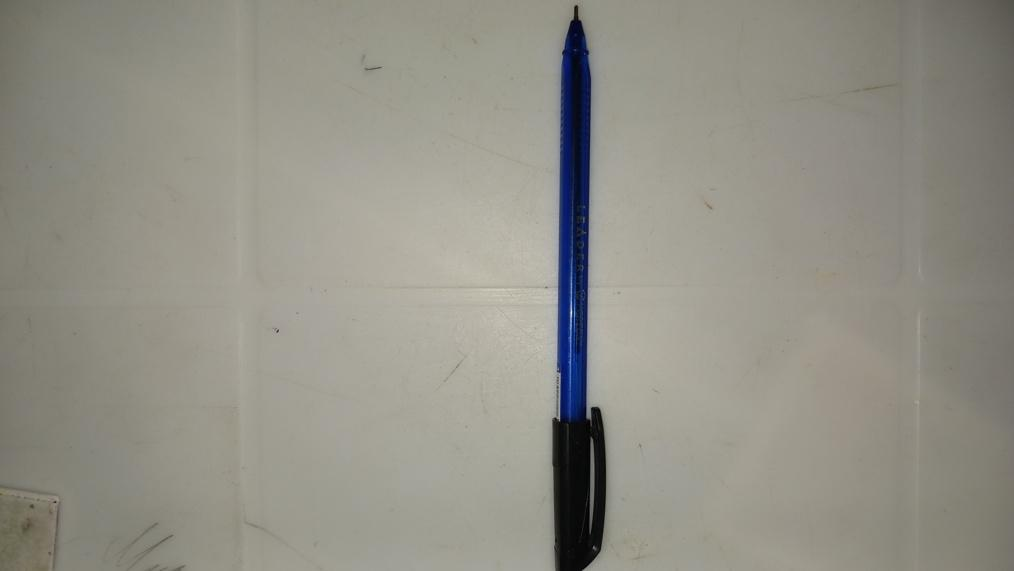pen: (554, 3, 607, 571)
